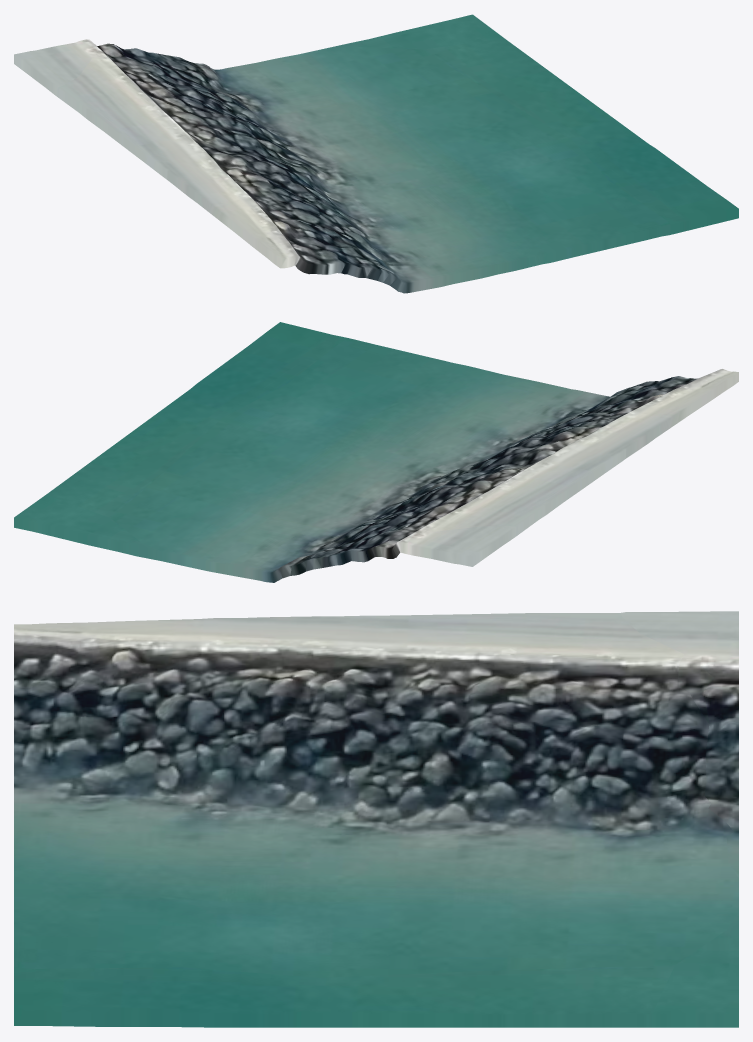
The model's file is z20-167559-405170-h0-yup-uvflip-v3-world.glb.
The picture shows the model from 3 angles, top to bottom: view 1: azimuth 30°, elevation 25°; view 2: azimuth 150°, elevation 25°; view 3: azimuth 270°, elevation 25°; orthographic projection. The views are drawn at different scales.
Size of the model in its own units: 30.16 by 5.16 by 30.32.
Materials: 1 (1 with a texture image).
